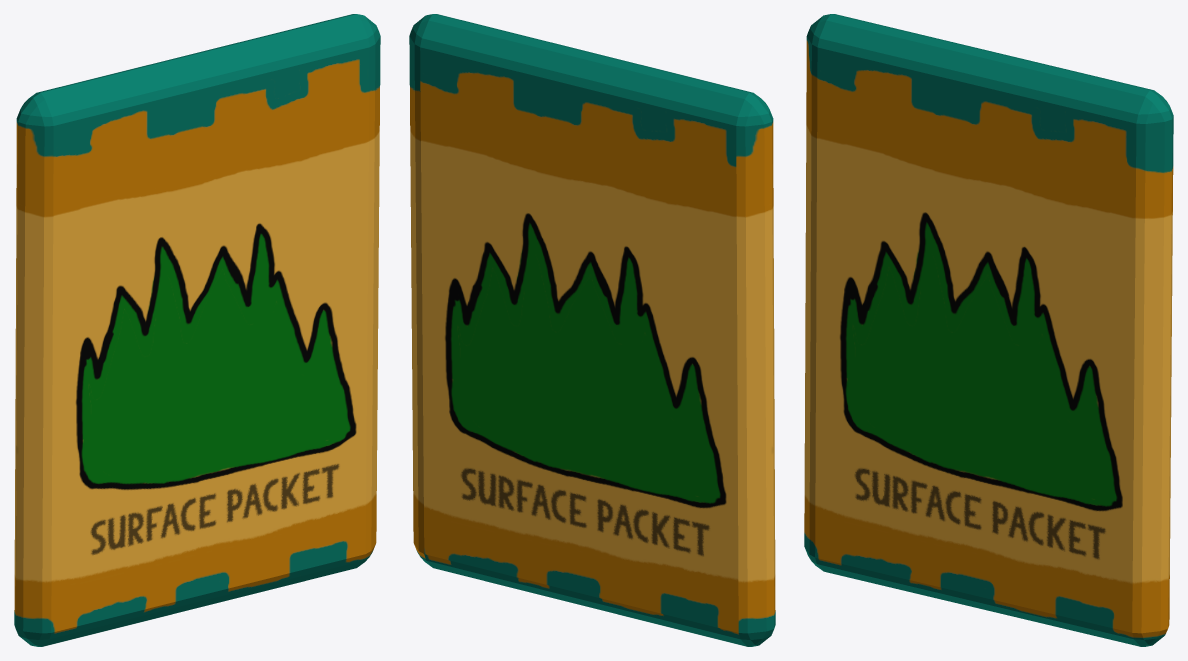
The model's file is surfacePacket.fbx.
3 renders of one model, left to right at view 1: azimuth 30°, elevation 25°; view 2: azimuth 150°, elevation 25°; view 3: azimuth 330°, elevation 25°, orthographic.
Visible parts, largest first — view 1: Plane; view 2: Plane; view 3: Plane.
Part boxes in pixels (x1,y1,x2,y2): Plane: (14,14,380,646); Plane: (409,14,775,646); Plane: (804,14,1173,646).
Size of the model in its own units: 251 by 366 by 31.34.
